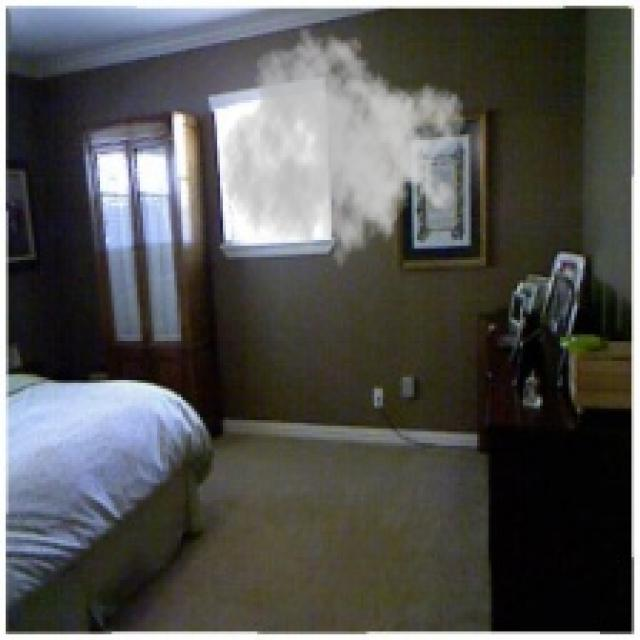smoke: (220, 26, 466, 283)
